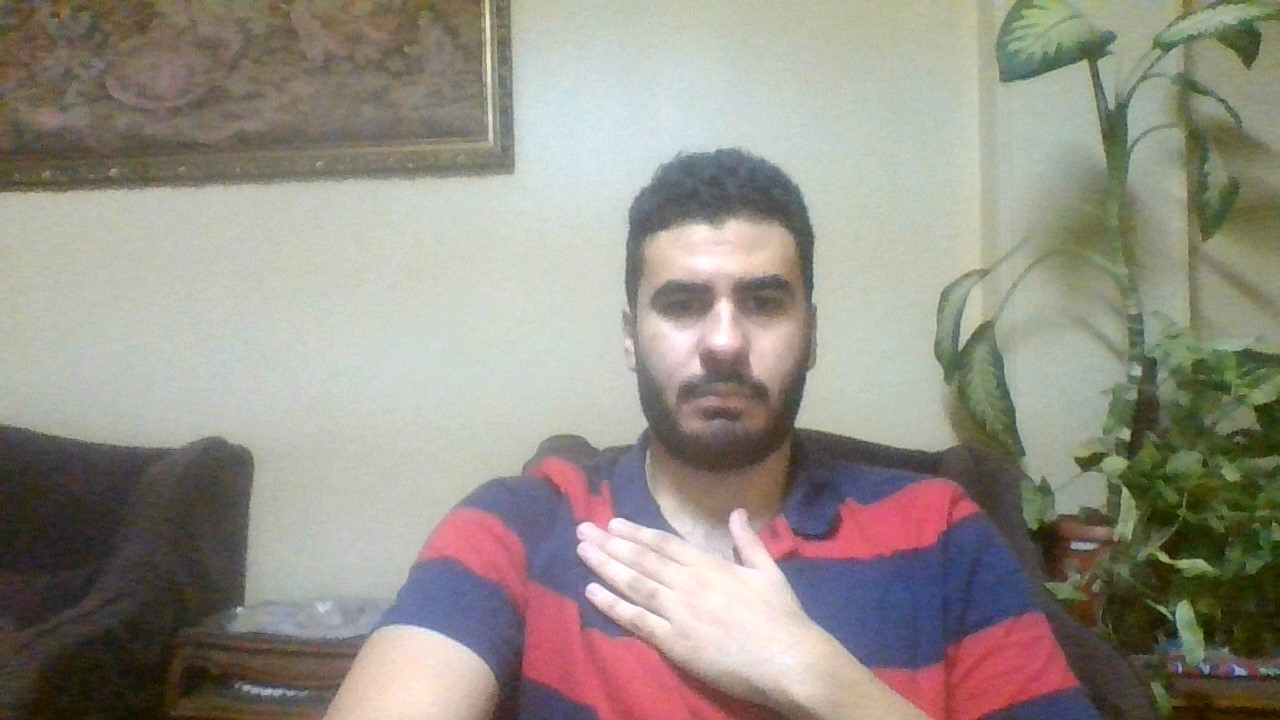please: (568, 510, 830, 699)
